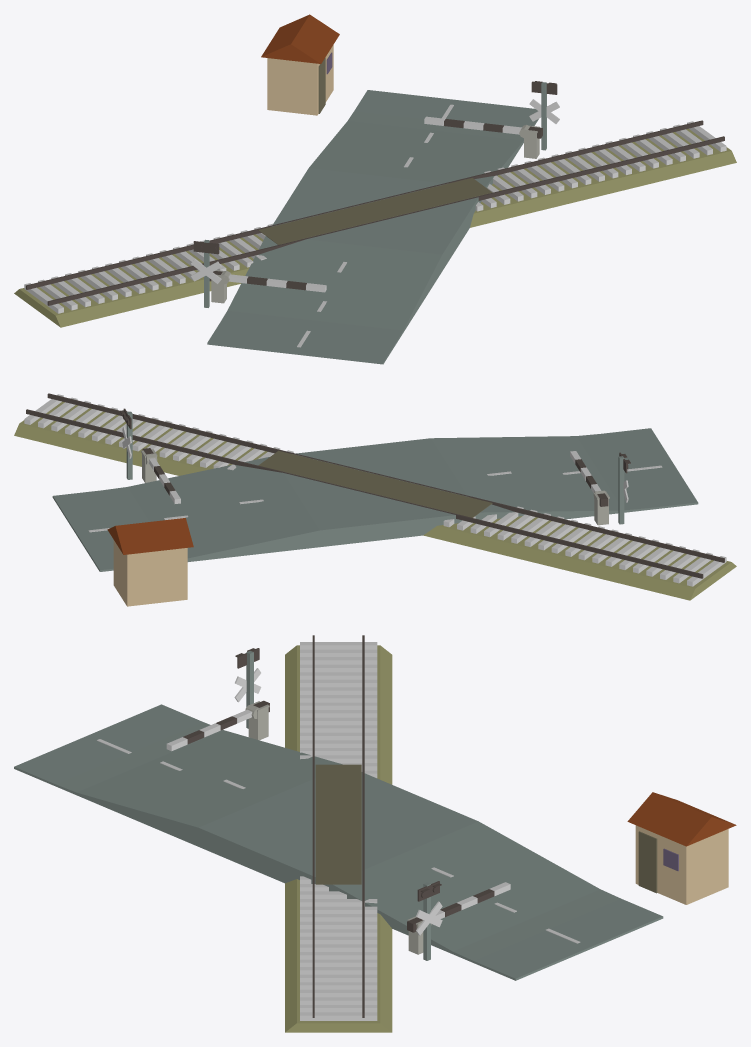
Rendered from SM_PasoNivel_45E_v0_Teja_LOD0.fbx.
The picture shows the model from 3 angles, top to bottom: view 1: azimuth 30°, elevation 25°; view 2: azimuth 150°, elevation 25°; view 3: azimuth 270°, elevation 25°; orthographic projection. The views are drawn at different scales.
Visible parts, largest first — view 1: SM_paso_nivel_kit_v30_LOD0, Barrera_1, Barrera_2; view 2: SM_paso_nivel_kit_v30_LOD0, Barrera_1, Barrera_2; view 3: SM_paso_nivel_kit_v30_LOD0, Barrera_2, Barrera_1.
Boxes of the visible parts, bbox=[...] form: SM_paso_nivel_kit_v30_LOD0: bbox=[14, 14, 736, 364]; Barrera_1: bbox=[424, 116, 542, 138]; Barrera_2: bbox=[209, 270, 326, 292]; SM_paso_nivel_kit_v30_LOD0: bbox=[14, 393, 736, 606]; Barrera_1: bbox=[142, 448, 180, 503]; Barrera_2: bbox=[570, 451, 608, 506]; SM_paso_nivel_kit_v30_LOD0: bbox=[14, 635, 736, 1032]; Barrera_2: bbox=[166, 700, 269, 751]; Barrera_1: bbox=[407, 882, 510, 932].
Size of the model in its own units: 30 by 3 by 24.25.
